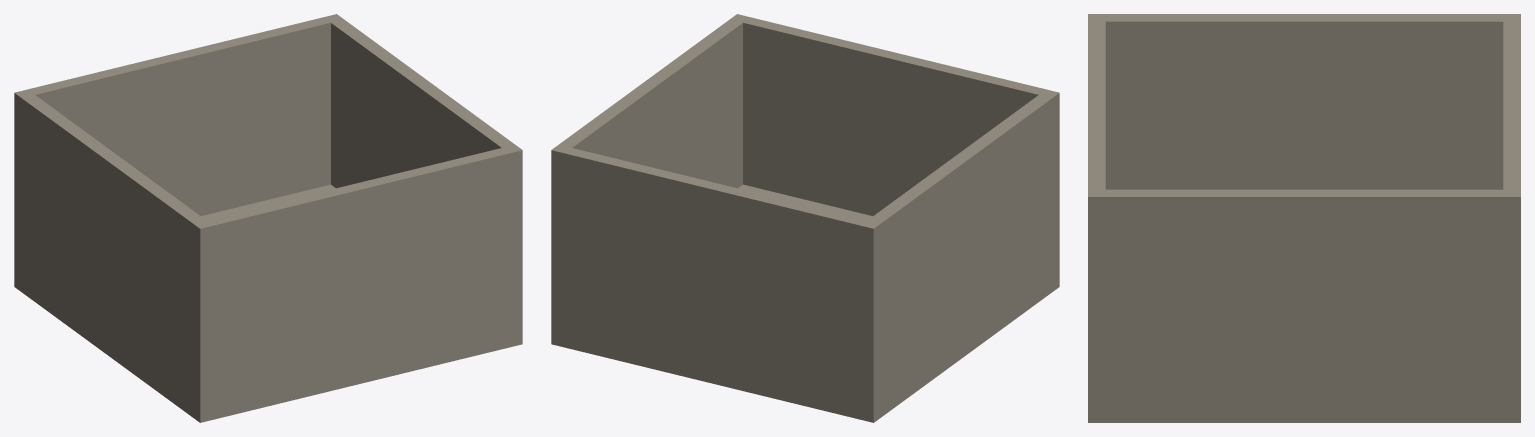
3 renders of one model, left to right at view 1: azimuth 30°, elevation 25°; view 2: azimuth 150°, elevation 25°; view 3: azimuth 270°, elevation 25°, orthographic. The views are drawn at different scales.
Visible parts, largest first — view 1: geo_sq_01; view 2: geo_sq_01; view 3: geo_sq_01.
Boxes of the visible parts, x1,y1,x2,y2 form: geo_sq_01: (14,14,522,422); geo_sq_01: (551,14,1059,422); geo_sq_01: (1088,14,1520,422).
Size of the model in its own units: 209 by 120 by 208.
